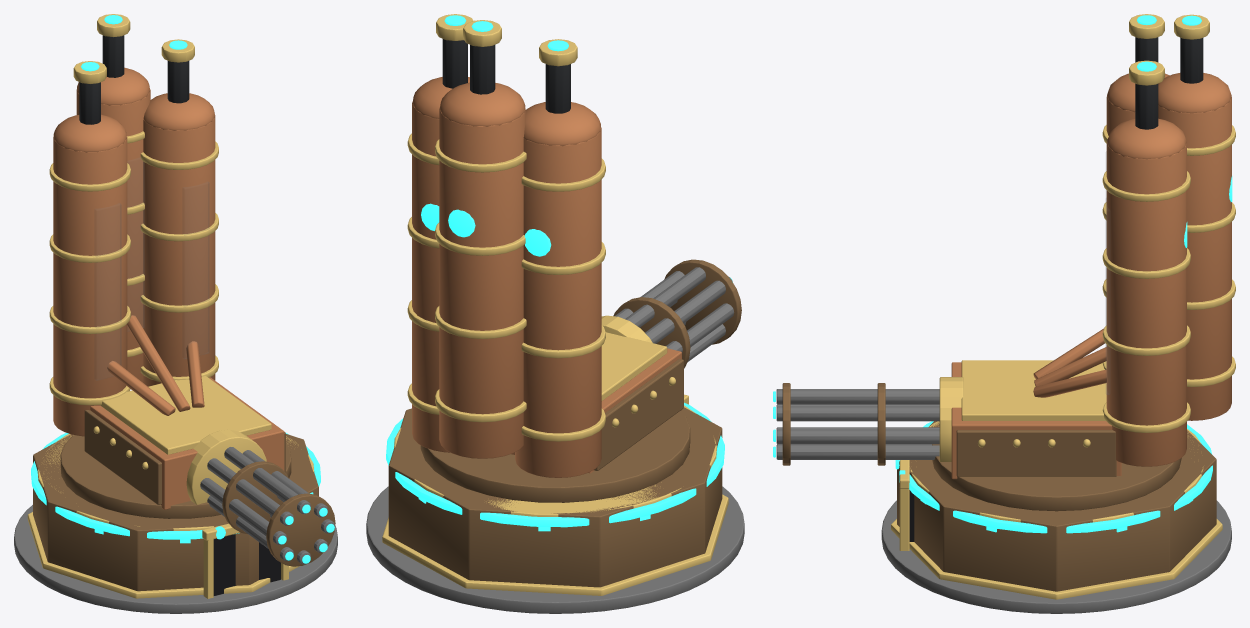
The model's file is Machinegoon_T3_Pepperbox.glb.
The picture shows the model from 3 angles, left to right: view 1: azimuth 30°, elevation 25°; view 2: azimuth 150°, elevation 25°; view 3: azimuth 270°, elevation 25°; orthographic projection. The views are drawn at different scales.
Visible parts, largest first — view 1: Machinegoon_T3_Pepperbox_Turret, Machinegoon_T3_Pepperbox_Base; view 2: Machinegoon_T3_Pepperbox_Turret, Machinegoon_T3_Pepperbox_Base; view 3: Machinegoon_T3_Pepperbox_Turret, Machinegoon_T3_Pepperbox_Base.
Part boxes in pixels (<box>): Machinegoon_T3_Pepperbox_Turret: <box>49,14,335,566</box>; Machinegoon_T3_Pepperbox_Base: <box>14,433,337,613</box>; Machinegoon_T3_Pepperbox_Turret: <box>407,14,741,502</box>; Machinegoon_T3_Pepperbox_Base: <box>366,394,744,613</box>; Machinegoon_T3_Pepperbox_Turret: <box>773,14,1235,511</box>; Machinegoon_T3_Pepperbox_Base: <box>881,421,1231,613</box>.
Bounding box in the file's own units: 3.5 × 5.74 × 4.62.
